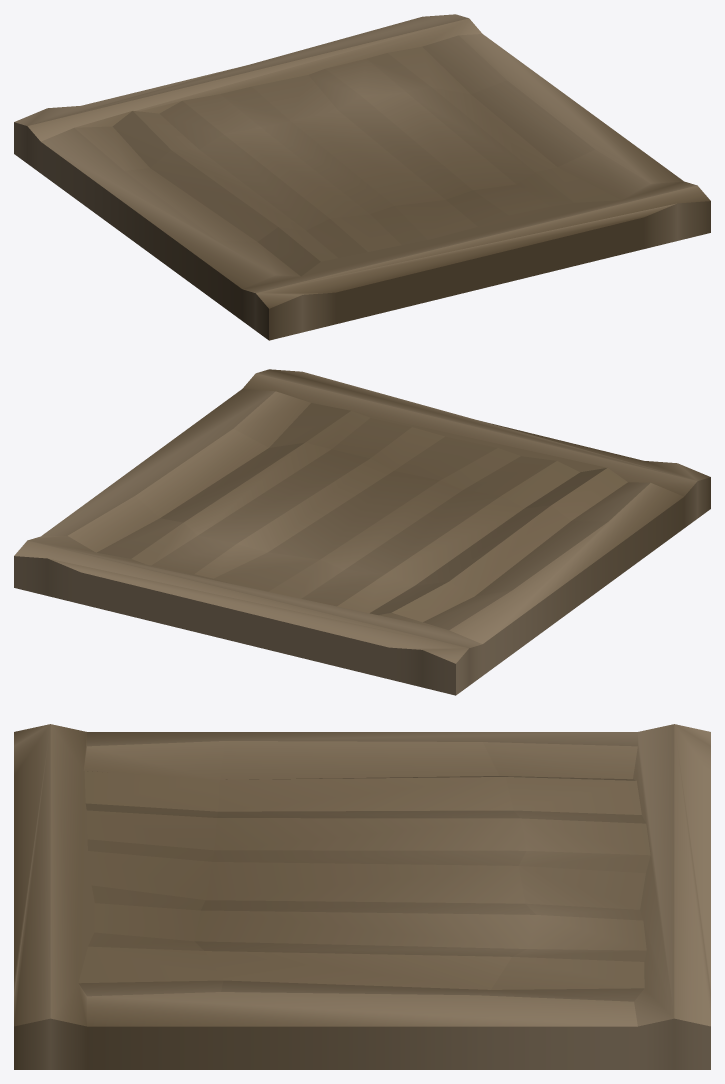
The model's file is Farmland_Soil_4X4_tilled.fbx.
The picture shows the model from 3 angles, top to bottom: view 1: azimuth 30°, elevation 25°; view 2: azimuth 150°, elevation 25°; view 3: azimuth 270°, elevation 25°; orthographic projection. The views are drawn at different scales.
Parts seen in each view (by area): view 1: Farmland_Soil_4X4_tilled; view 2: Farmland_Soil_4X4_tilled; view 3: Farmland_Soil_4X4_tilled.
Part boxes in pixels (box(x1,y1,x2,y2)): Farmland_Soil_4X4_tilled: box(14, 14, 710, 340); Farmland_Soil_4X4_tilled: box(14, 369, 710, 695); Farmland_Soil_4X4_tilled: box(14, 724, 710, 1069).
Bounding box in the file's own units: 4 × 0.3555 × 4.
Materials: 1 (1 with a texture image).
